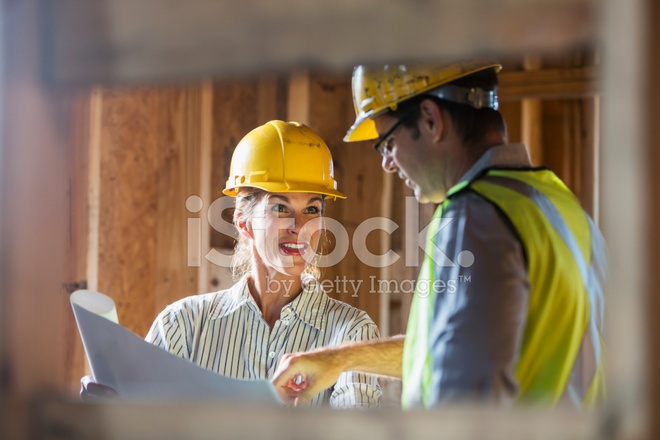yellow: (346, 57, 508, 202), (225, 119, 335, 278)
